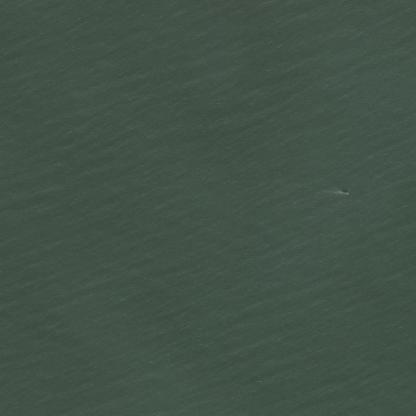ship: (334, 20, 349, 30)
